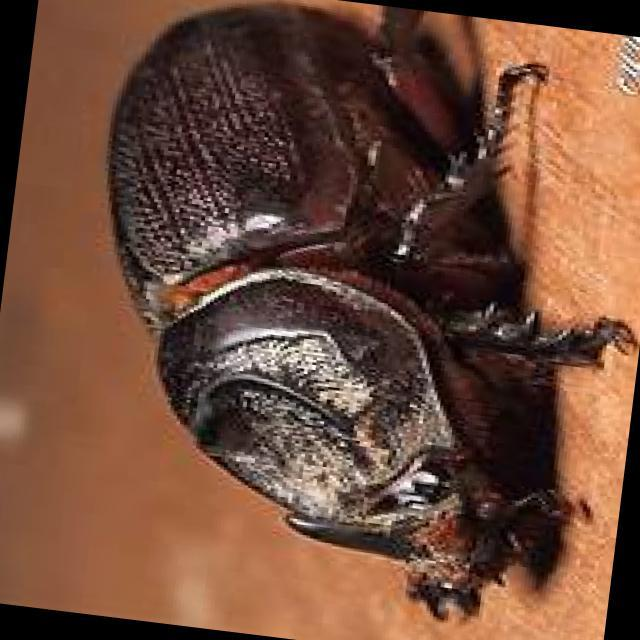Rhino-beetle: (66, 14, 574, 613)
